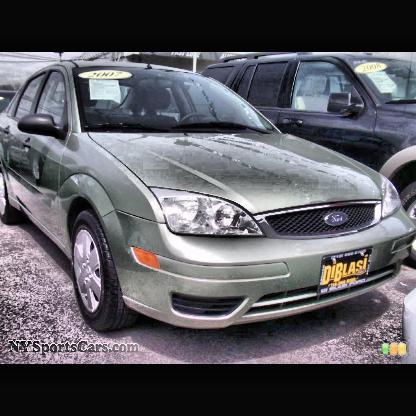Ford Focus Sedan 2007: (1, 61, 415, 334)
